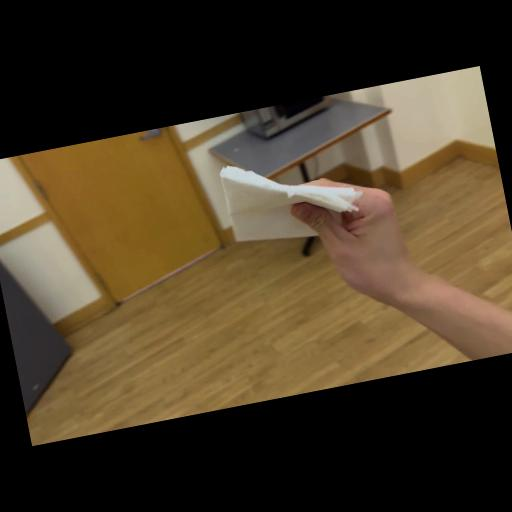napkin: (219, 142, 367, 250)
